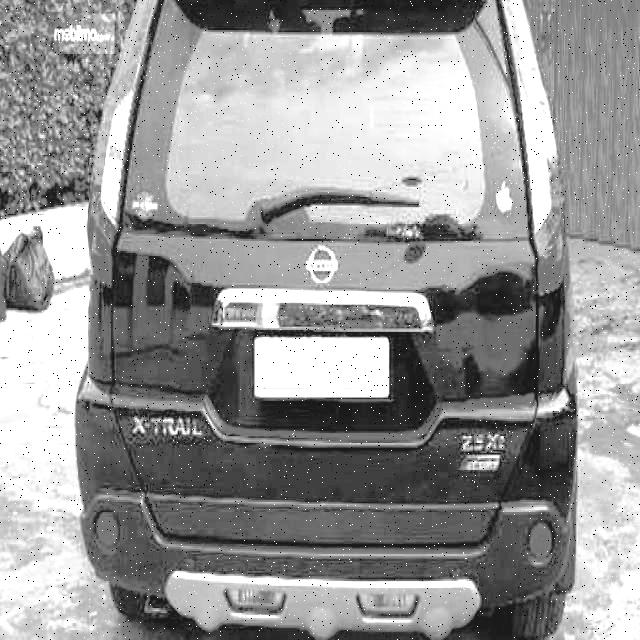Car: (78, 0, 589, 640)
